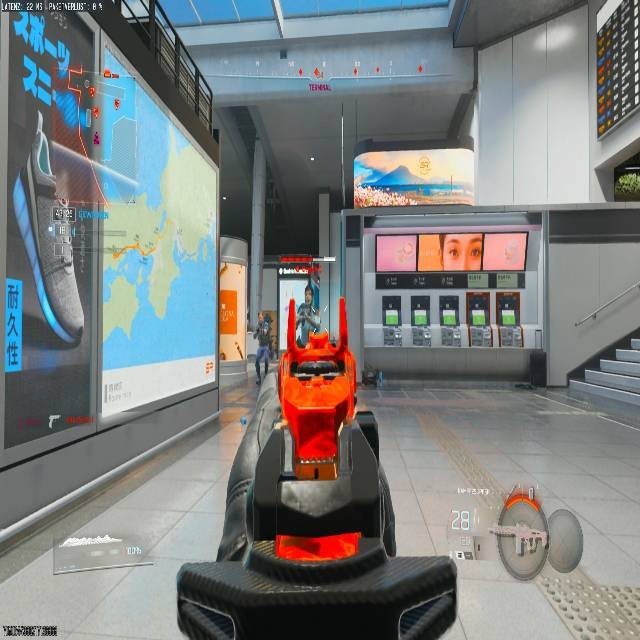head: (304, 283, 317, 304), (260, 309, 273, 322), (260, 313, 272, 326), (257, 311, 269, 324)
player: (297, 281, 323, 347), (251, 313, 275, 383)
